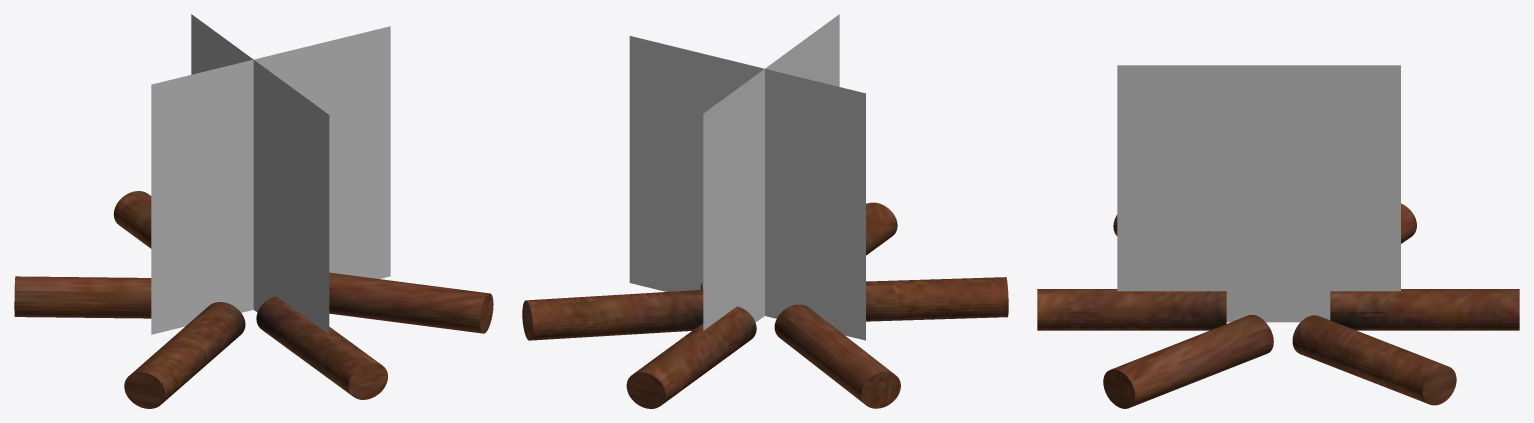
The model's file is firewood.fbx.
3 views of the same model, side by side, from view 1: azimuth 30°, elevation 25°; view 2: azimuth 150°, elevation 25°; view 3: azimuth 270°, elevation 25° (orthographic). The views are drawn at different scales.
Visible parts, largest first — view 1: firewood.001, firewood; view 2: firewood.001, firewood; view 3: firewood.001, firewood.
Part boxes in pixels (<box>): firewood.001: <box>151,14,390,334</box>; firewood: <box>14,191,493,408</box>; firewood.001: <box>629,14,865,340</box>; firewood: <box>522,202,1008,408</box>; firewood.001: <box>1117,65,1400,322</box>; firewood: <box>1037,203,1519,408</box>.
Size of the model in its own units: 171 by 117 by 193.
